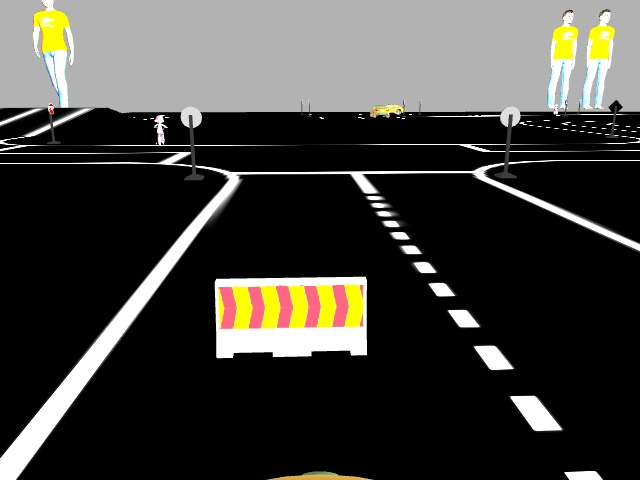ClosedRoadStand: (215, 279, 366, 353)
